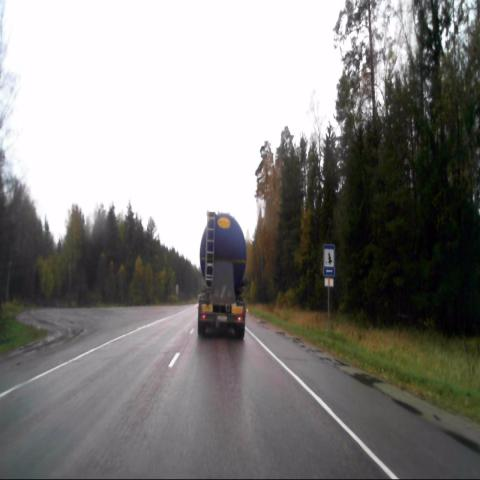7_11: (322, 245, 336, 277)
